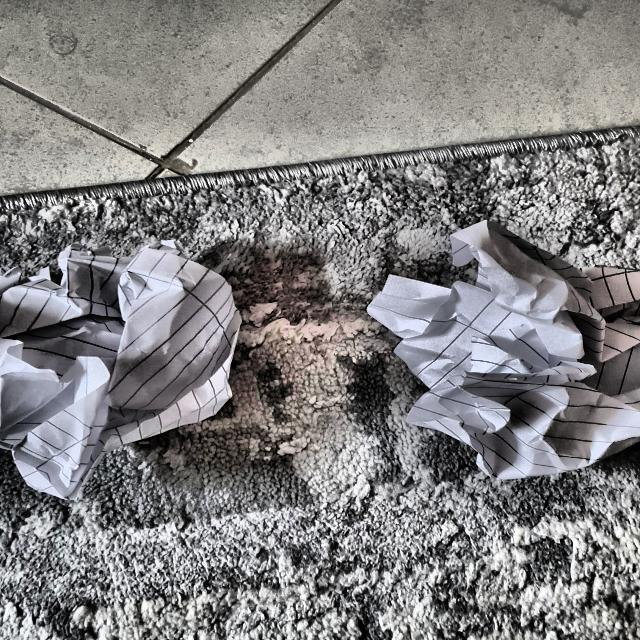paper: (371, 220, 640, 480), (0, 233, 249, 506)
